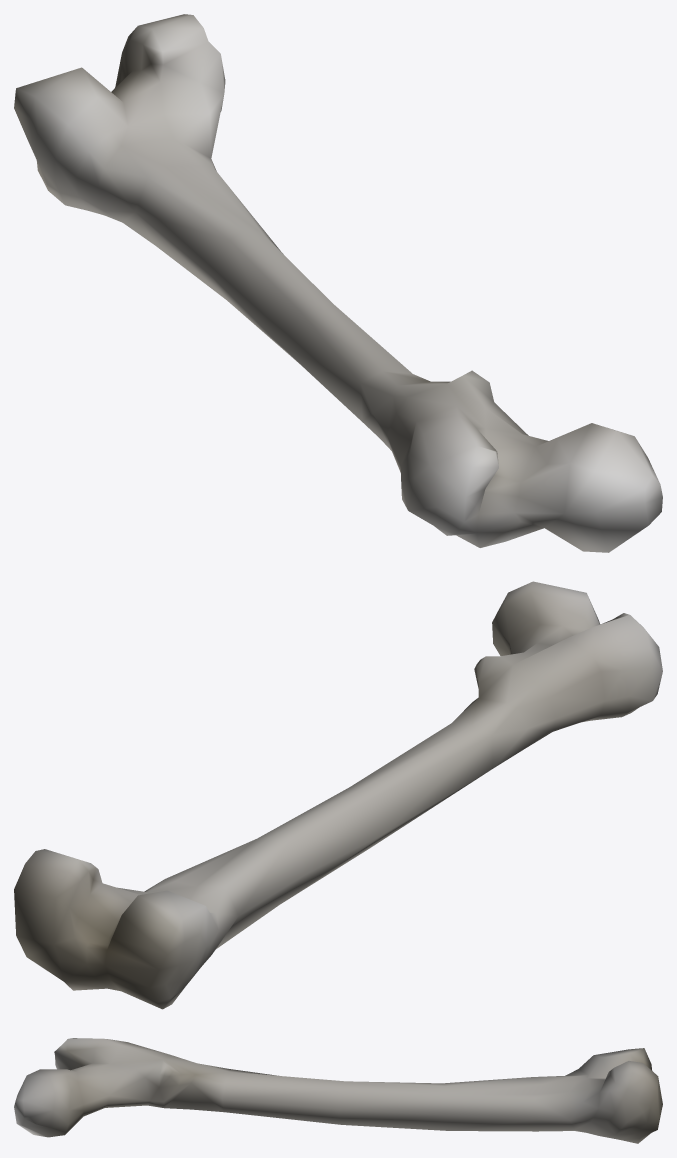
The picture shows the model from 3 angles, top to bottom: view 1: azimuth 30°, elevation 25°; view 2: azimuth 150°, elevation 25°; view 3: azimuth 270°, elevation 25°; orthographic projection. The views are drawn at different scales.
Parts seen in each view (by area): view 1: alt351; view 2: alt351; view 3: alt351.
Part boxes in pixels (bbox=[...]): alt351: bbox=[14, 14, 662, 552]; alt351: bbox=[14, 581, 662, 1009]; alt351: bbox=[14, 1038, 662, 1143].
Size of the model in its own units: 0.1355 by 0.0756 by 0.5.
